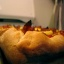pizza: (1, 22, 63, 59)
